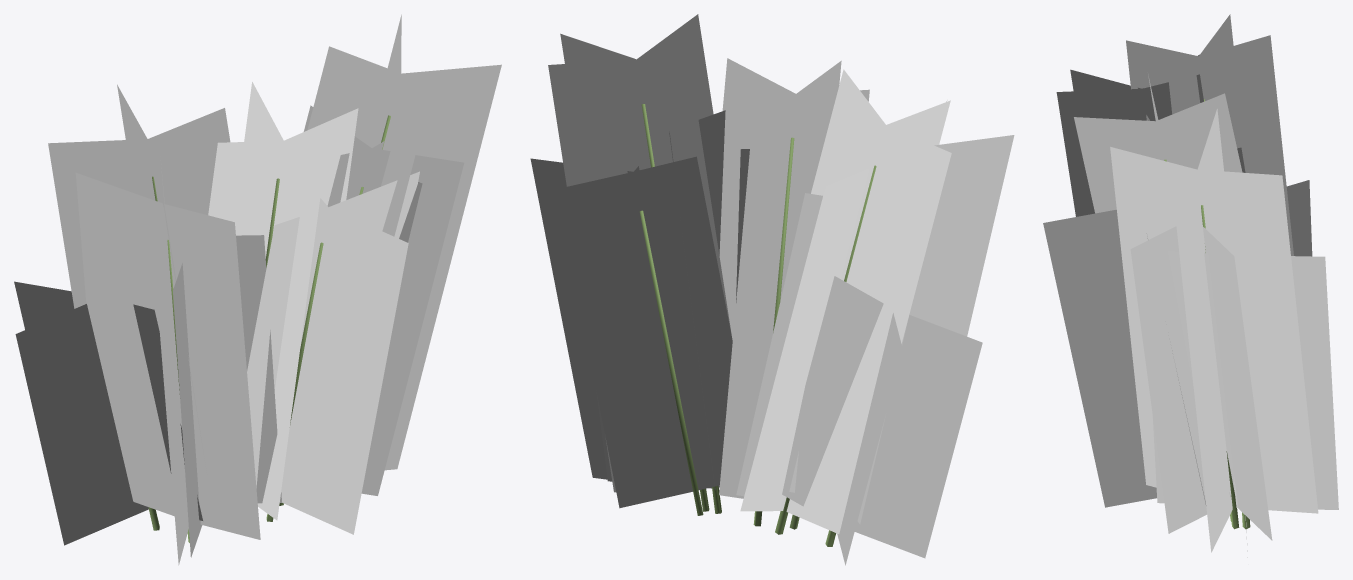
File: nettles.glb
3 renders of one model, left to right at view 1: azimuth 30°, elevation 25°; view 2: azimuth 150°, elevation 25°; view 3: azimuth 270°, elevation 25°, orthographic. The views are drawn at different scales.
Parts seen in each view (by area): view 1: nettles; view 2: nettles; view 3: nettles.
Part boxes in pixels (left/top/right/bottom): nettles: left=14, top=14, right=501, bottom=565; nettles: left=530, top=14, right=1014, bottom=565; nettles: left=1043, top=14, right=1338, bottom=557.
Size of the model in its own units: 1.04 by 0.9864 by 0.6106.
